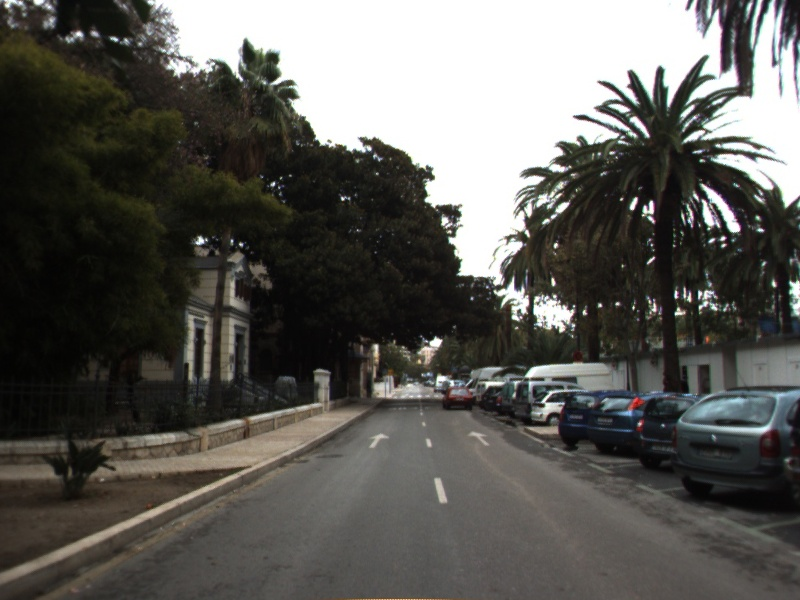STRAIGHT: (465, 429, 492, 448), (366, 431, 392, 450)
